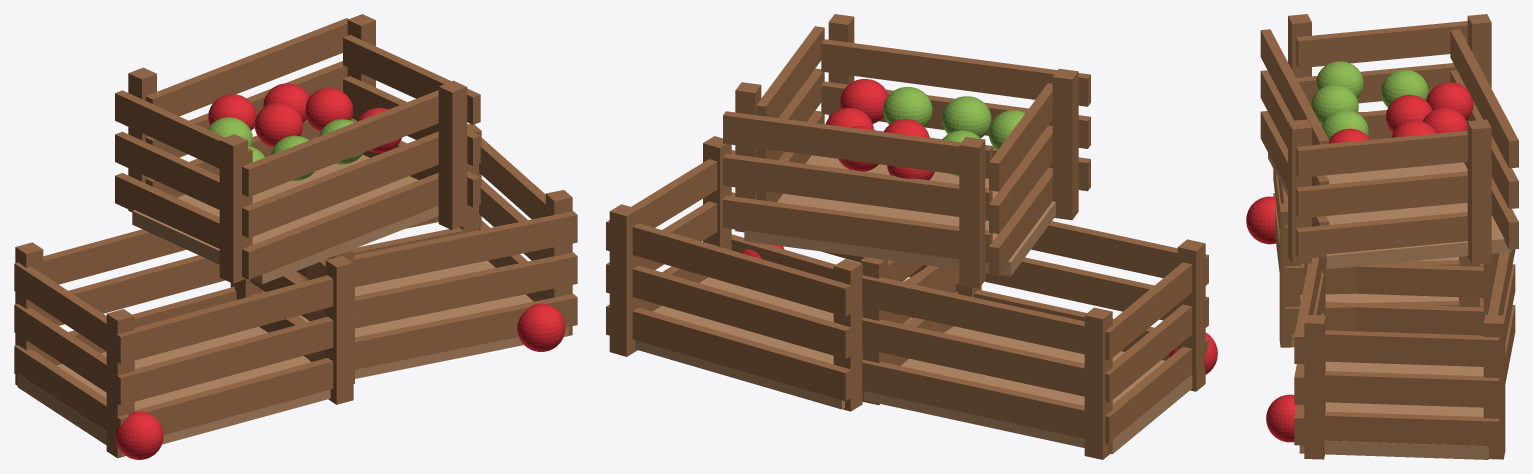
The model's file is crate-stack.glb.
3 views of the same model, side by side, from view 1: azimuth 30°, elevation 25°; view 2: azimuth 150°, elevation 25°; view 3: azimuth 270°, elevation 25° (orthographic). The views are drawn at different scales.
Visible parts, largest first — view 1: Cube.030, Cube.026, Cube.009, Cube.013, Cube.039, Cube.043, Cube.047, Cube.048, Cube.022, Cube.004, Cube.005, Cube.038 (+33 smaller); view 2: Cube.048, Cube.040, Cube.044, Cube.047, Cube.010, Cube.014, Cube.006, Cube.031, Cube.027, Cube.023, Cube.004, Cube.038 (+34 smaller); view 3: Cube.033, Cube.029, Cube.021, Cube.038, Cube.050, Cube.046, Cube.025, Cube.042, Cube.049, Cube.028, Cube.024, Cube.037 (+36 smaller).
Part boxes in pixels (x1,y1,x2,y2): Cube.030: (353, 211, 577, 287); Cube.026: (353, 252, 577, 328); Cube.009: (115, 316, 333, 405); Cube.013: (115, 275, 333, 364); Cube.039: (242, 172, 438, 279); Cube.043: (242, 131, 438, 238); Cube.047: (242, 90, 438, 196); Cube.048: (145, 18, 348, 116); Cube.022: (353, 293, 577, 369); Cube.004: (17, 326, 330, 455); Cube.005: (115, 358, 333, 444); Cube.038: (132, 154, 438, 284); Cube.048: (723, 111, 992, 178); Cube.040: (723, 195, 992, 262); Cube.044: (723, 153, 992, 220); Cube.047: (821, 39, 1090, 106); Cube.010: (862, 317, 1084, 396); Cube.014: (862, 275, 1084, 354); Cube.006: (862, 359, 1084, 438); Cube.031: (632, 223, 851, 316); Cube.027: (632, 265, 851, 358); Cube.023: (632, 307, 851, 401); Cube.004: (864, 326, 1192, 453); Cube.038: (744, 155, 1055, 276); Cube.033: (1324, 330, 1499, 367); Cube.029: (1324, 371, 1499, 408); Cube.021: (1299, 361, 1488, 459); Cube.038: (1268, 153, 1511, 269); Cube.050: (1296, 130, 1467, 177); Cube.046: (1296, 171, 1467, 218); Cube.025: (1324, 411, 1499, 448); Cube.042: (1296, 212, 1467, 259); Cube.049: (1296, 21, 1467, 68); Cube.028: (1356, 265, 1483, 297); Cube.024: (1325, 302, 1483, 335); Cube.037: (1467, 119, 1491, 264).
Size of the model in its own units: 1.09 by 0.61 by 0.5467.
